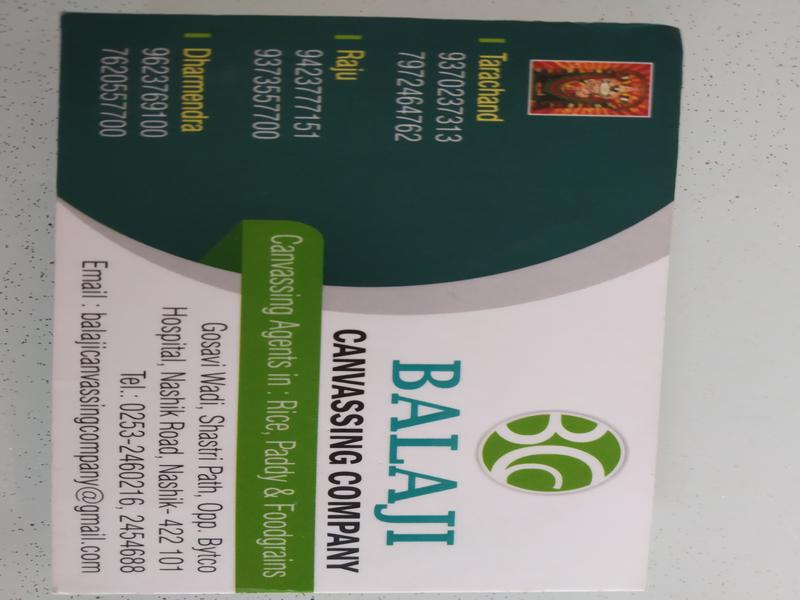card: (45, 7, 686, 600)
